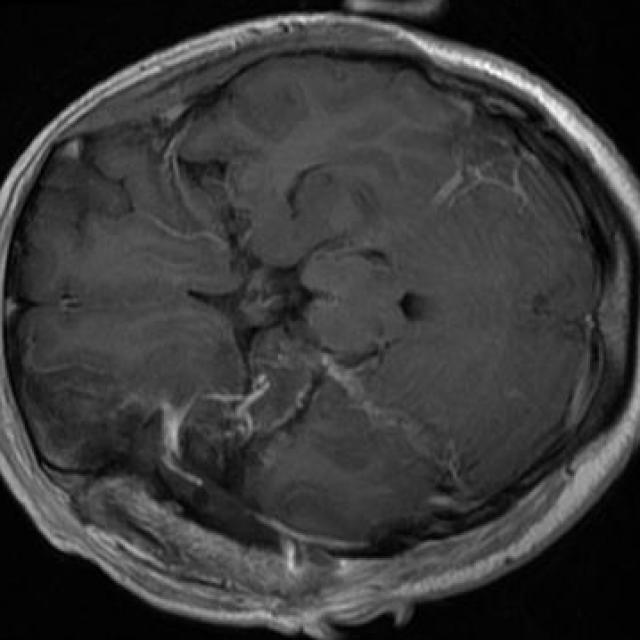glioma: (119, 324, 426, 546)
